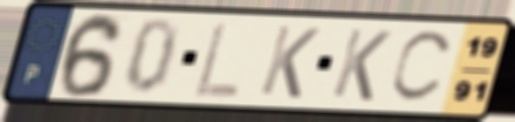0: (122, 16, 184, 98)
6: (54, 9, 128, 100)
C: (386, 29, 458, 107)
K: (255, 23, 323, 102), (327, 26, 395, 104)
L: (190, 19, 244, 99)
